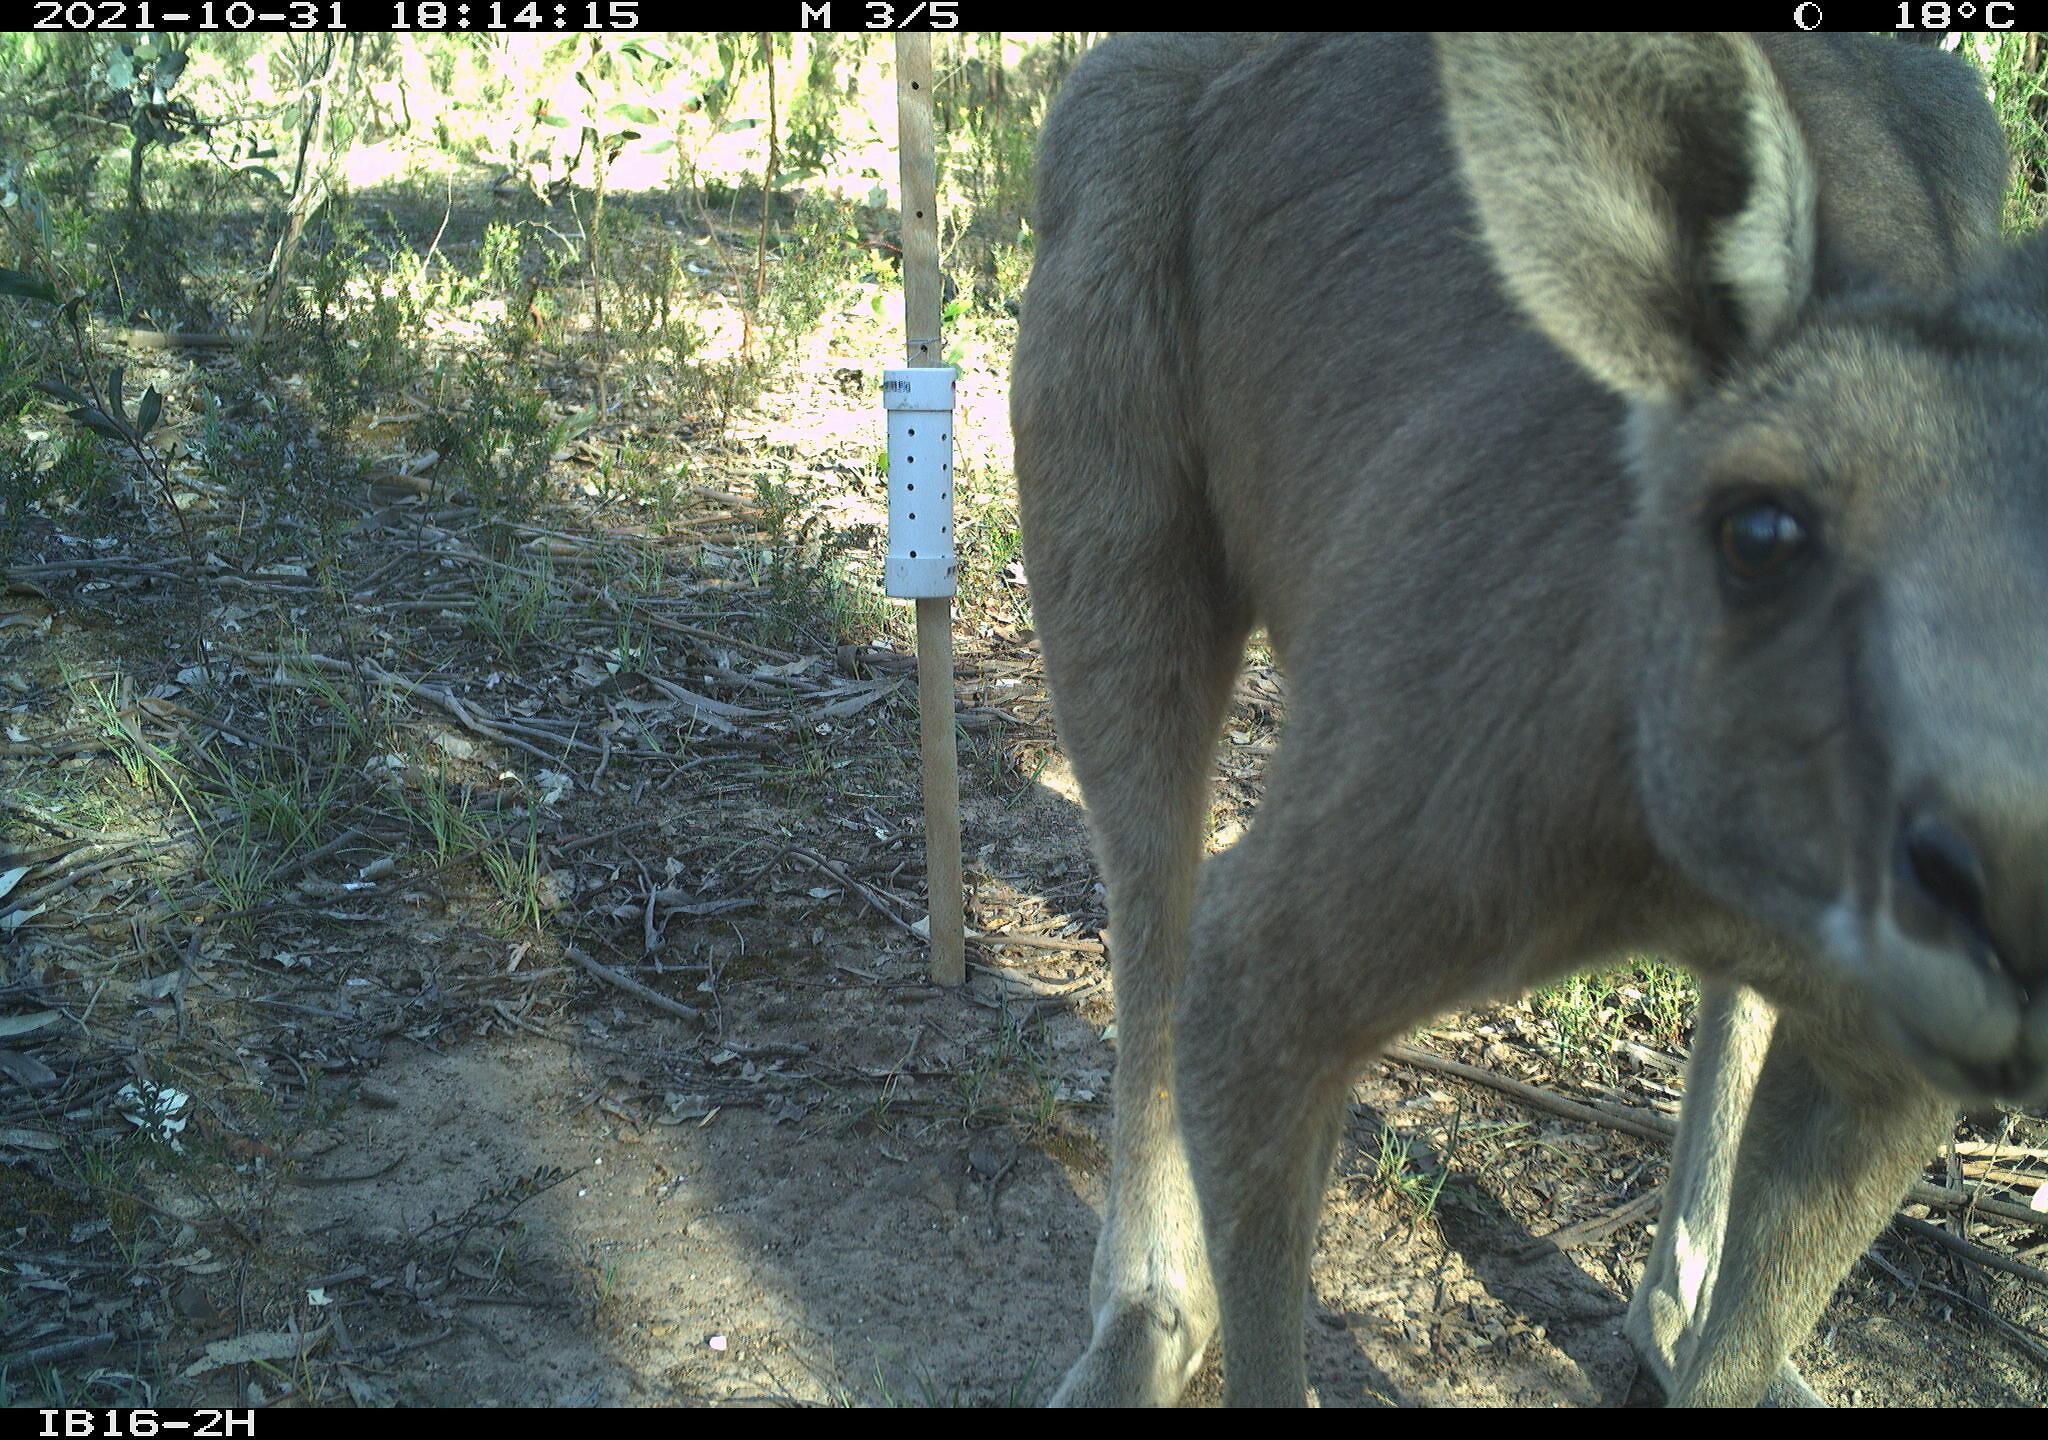Eastern grey kangaroo: (1007, 37, 2048, 1407)
